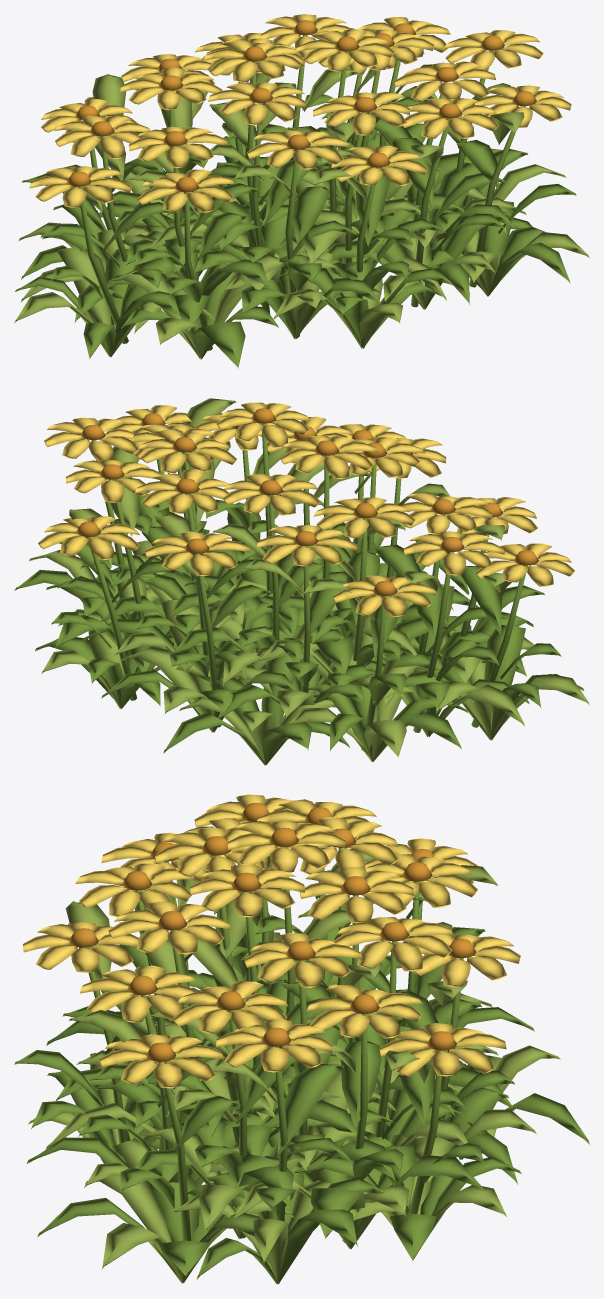
The model's file is flowers_gold.fbx.
The picture shows the model from 3 angles, top to bottom: view 1: azimuth 30°, elevation 25°; view 2: azimuth 150°, elevation 25°; view 3: azimuth 270°, elevation 25°; orthographic projection. The views are drawn at different scales.
Visible parts, largest first — view 1: flowers_gold • Flower foliage • garden green.001, flowers_gold • Gold flower • butter yellow, flowers_gold • Flower foliage • sunlit green.001, flowers_gold • Gold pollen • ochre; view 2: flowers_gold • Flower foliage • garden green.001, flowers_gold • Gold flower • butter yellow, flowers_gold • Flower foliage • sunlit green.001, flowers_gold • Gold pollen • ochre; view 3: flowers_gold • Flower foliage • garden green.001, flowers_gold • Gold flower • butter yellow, flowers_gold • Flower foliage • sunlit green.001, flowers_gold • Gold pollen • ochre.
Boxes of the visible parts, <box> form: flowers_gold • Flower foliage • garden green.001: <box>15,35,576,368</box>; flowers_gold • Gold flower • butter yellow: <box>29,14,571,212</box>; flowers_gold • Flower foliage • sunlit green.001: <box>14,46,589,359</box>; flowers_gold • Gold pollen • ochre: <box>67,20,536,192</box>; flowers_gold • Flower foliage • garden green.001: <box>14,423,583,765</box>; flowers_gold • Gold flower • butter yellow: <box>38,402,574,616</box>; flowers_gold • Flower foliage • sunlit green.001: <box>29,398,589,764</box>; flowers_gold • Gold pollen • ochre: <box>76,408,538,596</box>; flowers_gold • Flower foliage • garden green.001: <box>14,847,589,1284</box>; flowers_gold • Gold flower • butter yellow: <box>23,794,520,1088</box>; flowers_gold • Flower foliage • sunlit green.001: <box>28,848,560,1283</box>; flowers_gold • Gold pollen • ochre: <box>69,802,476,1061</box>.
Size of the model in its own units: 1.4 by 0.65 by 1.
